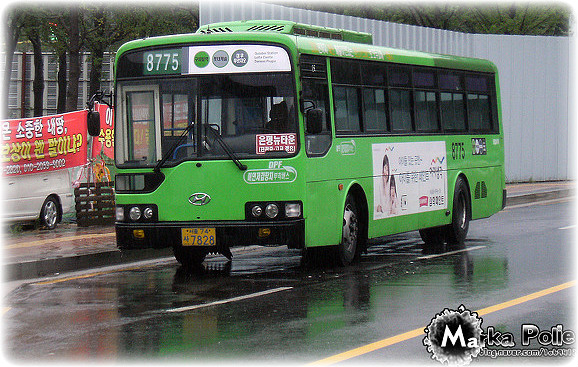bnum: (141, 49, 182, 75)
